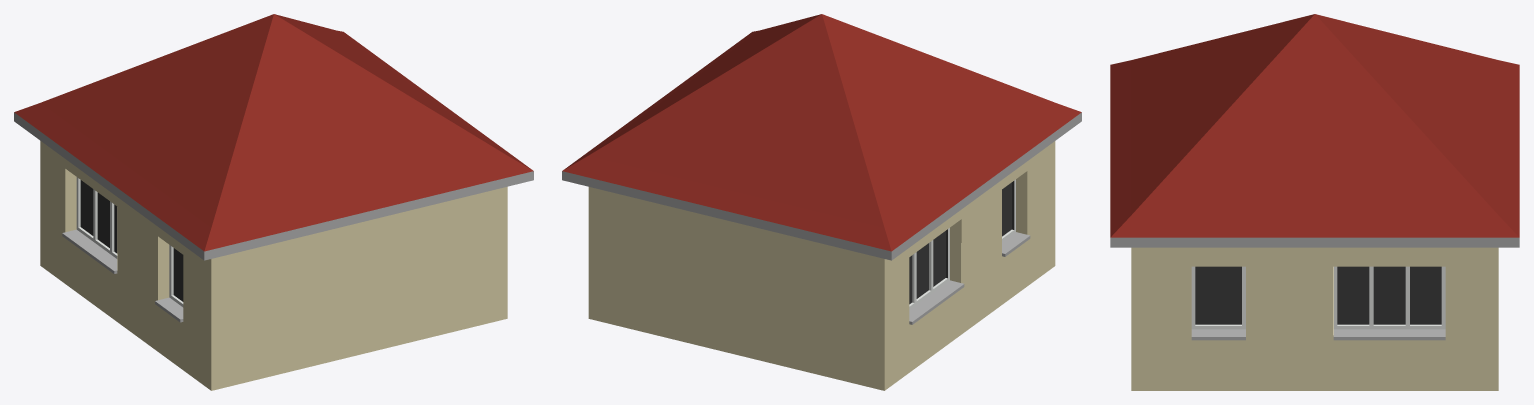
File: house_hip.gltf
3 views of the same model, side by side, from view 1: azimuth 30°, elevation 25°; view 2: azimuth 150°, elevation 25°; view 3: azimuth 270°, elevation 25° (orthographic). The views are drawn at different scales.
Visible parts, largest first — view 1: house_simple; view 2: house_simple; view 3: house_simple.
Part boxes in pixels (x1,y1,x2,y2): house_simple: [14, 14, 533, 390]; house_simple: [562, 14, 1081, 390]; house_simple: [1110, 14, 1519, 390].
Bounding box in the file's own units: 5.8 × 4.68 × 5.8.
